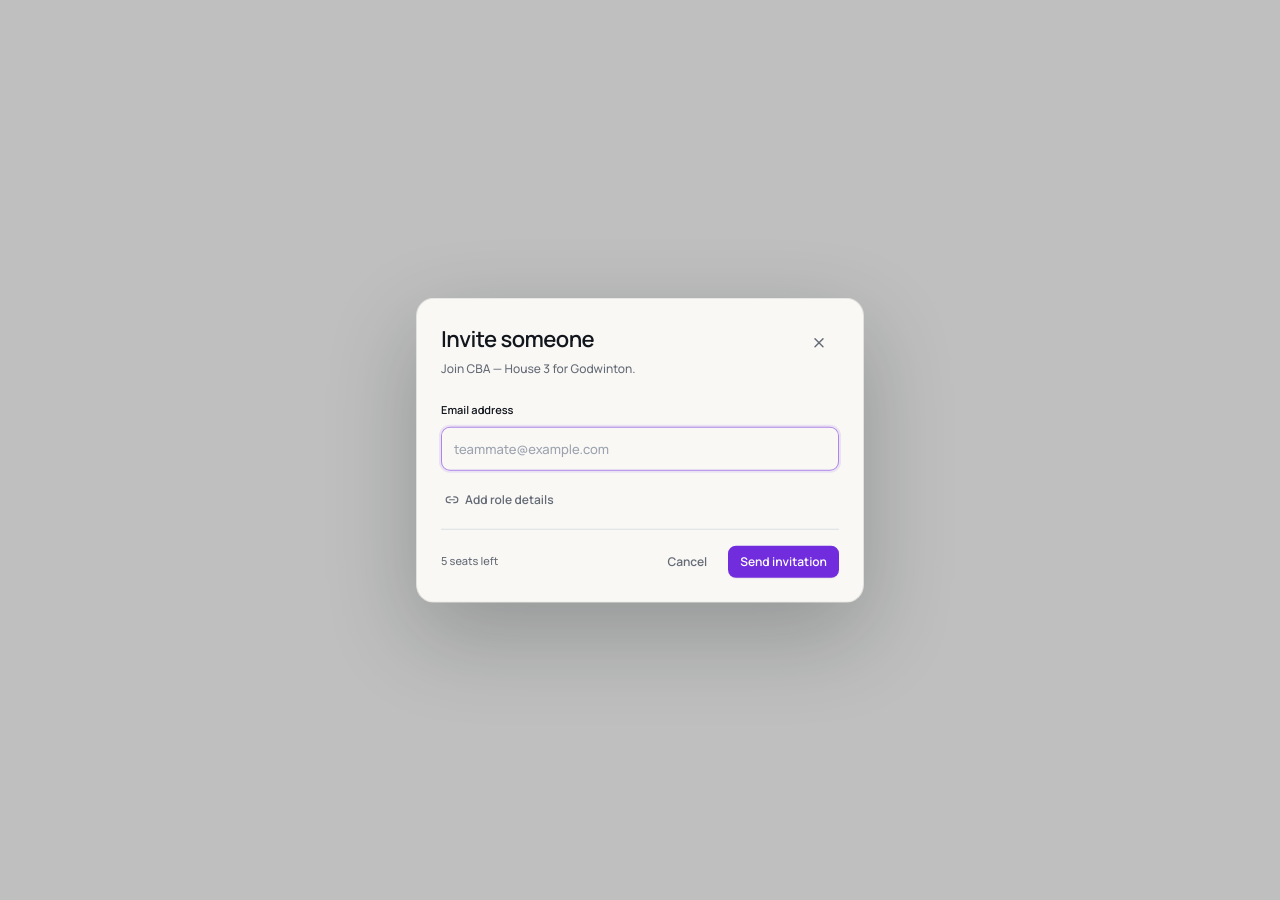
it: TeamInviteDialog › focuses email first and progressively reveals role details
Expected: the dialog "Invite someone" is shown, top-left (416, 298), bottom-right (864, 602)
Expected: the dropdown labelled "Their role" is not shown
Click the button "Add role details" at (499,499), box top-left (441, 486), bottom-right (558, 512)
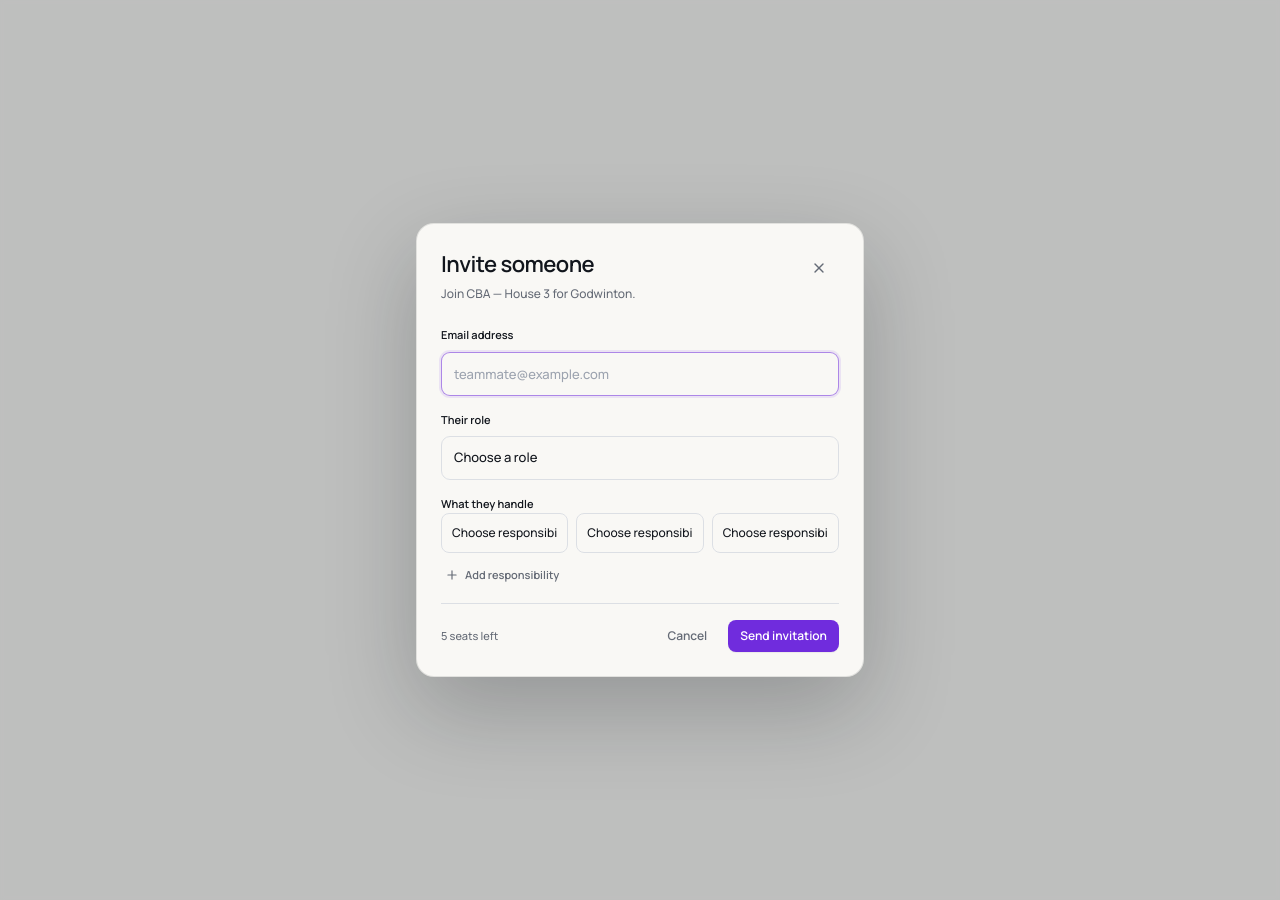
Now the dropdown labelled "Their role" is shown, box top-left (441, 436), bottom-right (839, 480)
Now the dropdown named "Responsibility 3" is shown, box top-left (712, 512), bottom-right (839, 552)
